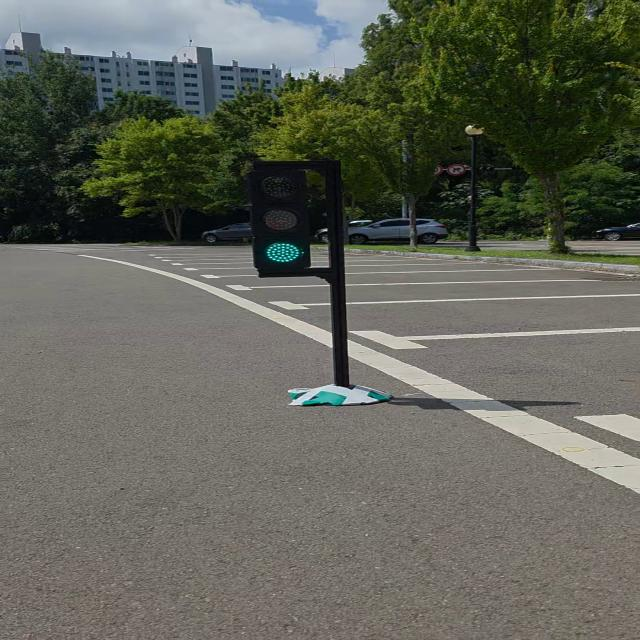green: (249, 165, 317, 276)
